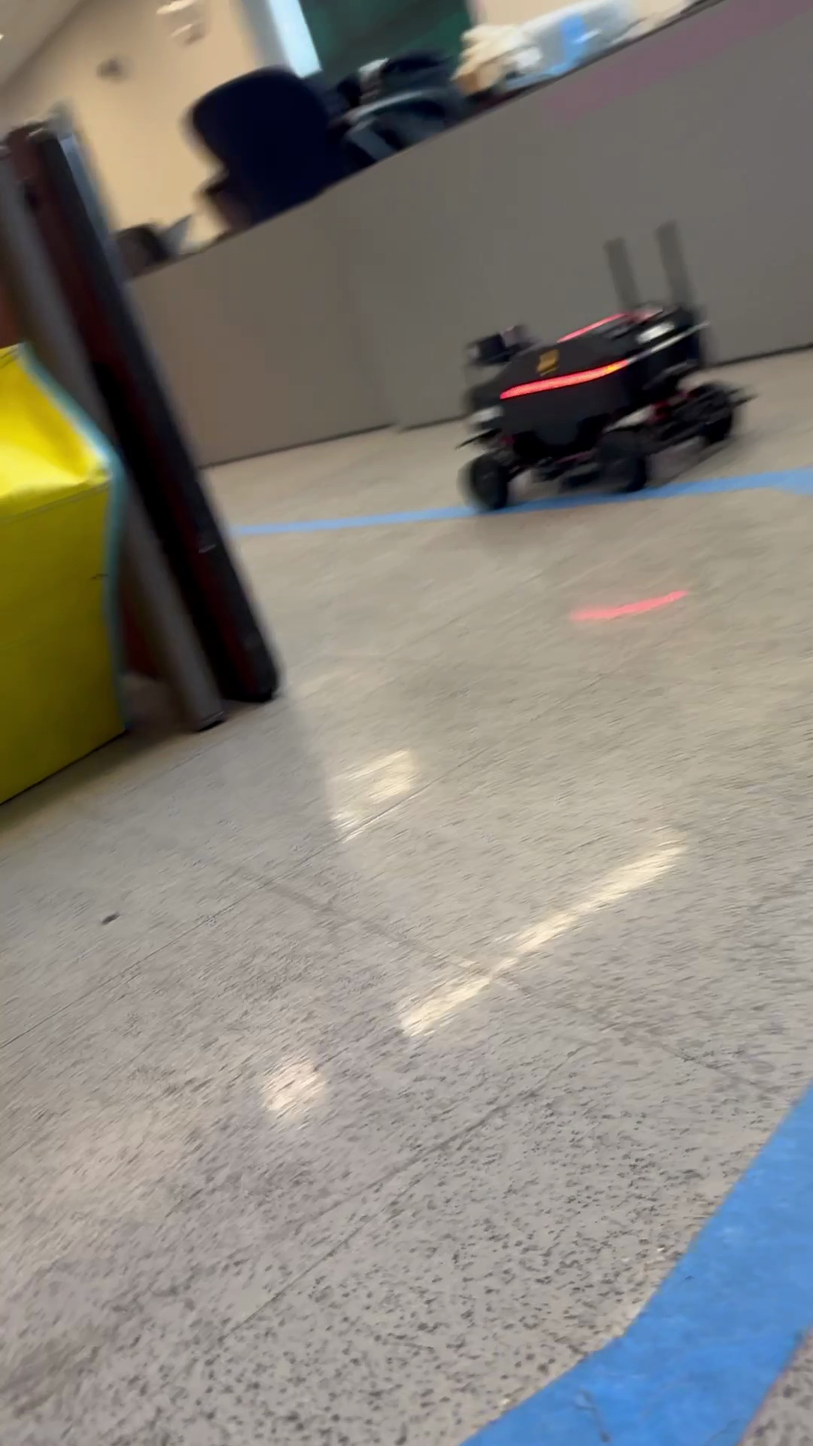racecar: (462, 308, 744, 506)
